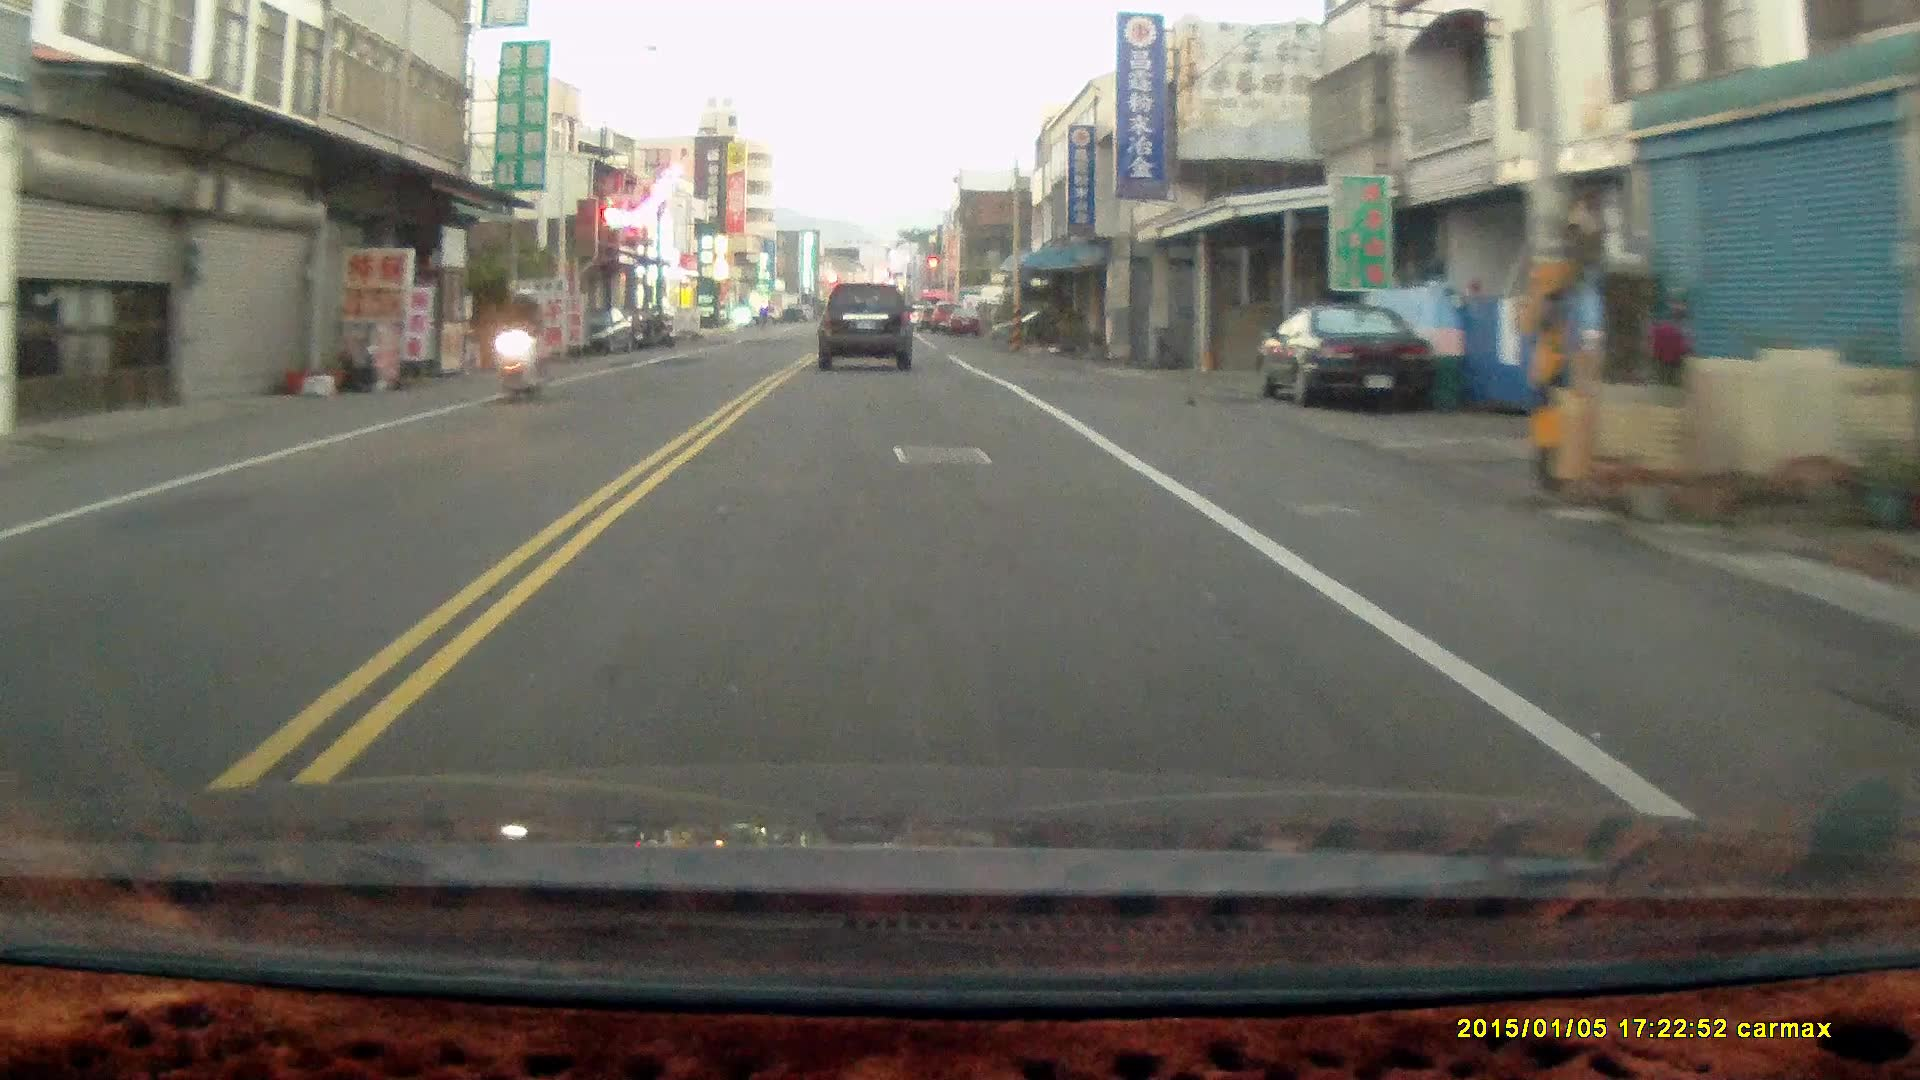rider: (487, 286, 547, 406)
vehicle: (1259, 303, 1444, 415), (817, 281, 915, 371)
